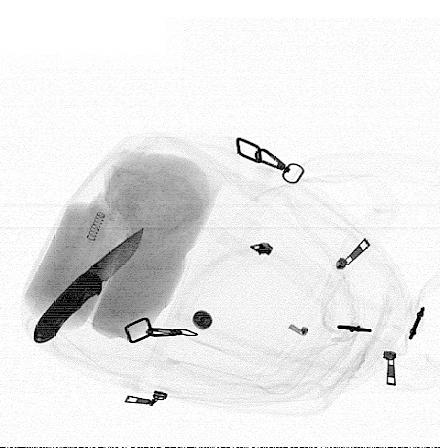Knife: (33, 227, 144, 344)
